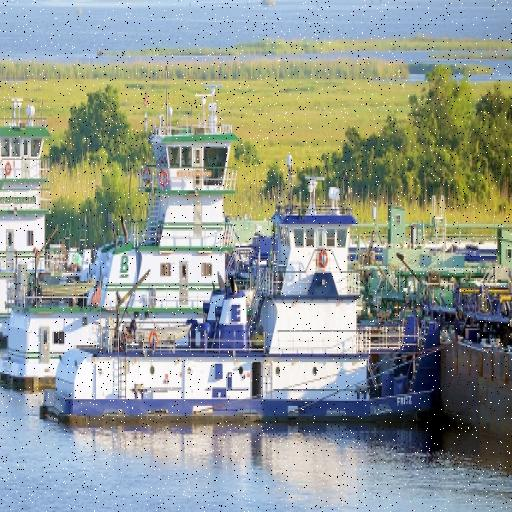tugboat: (37, 170, 447, 448)
